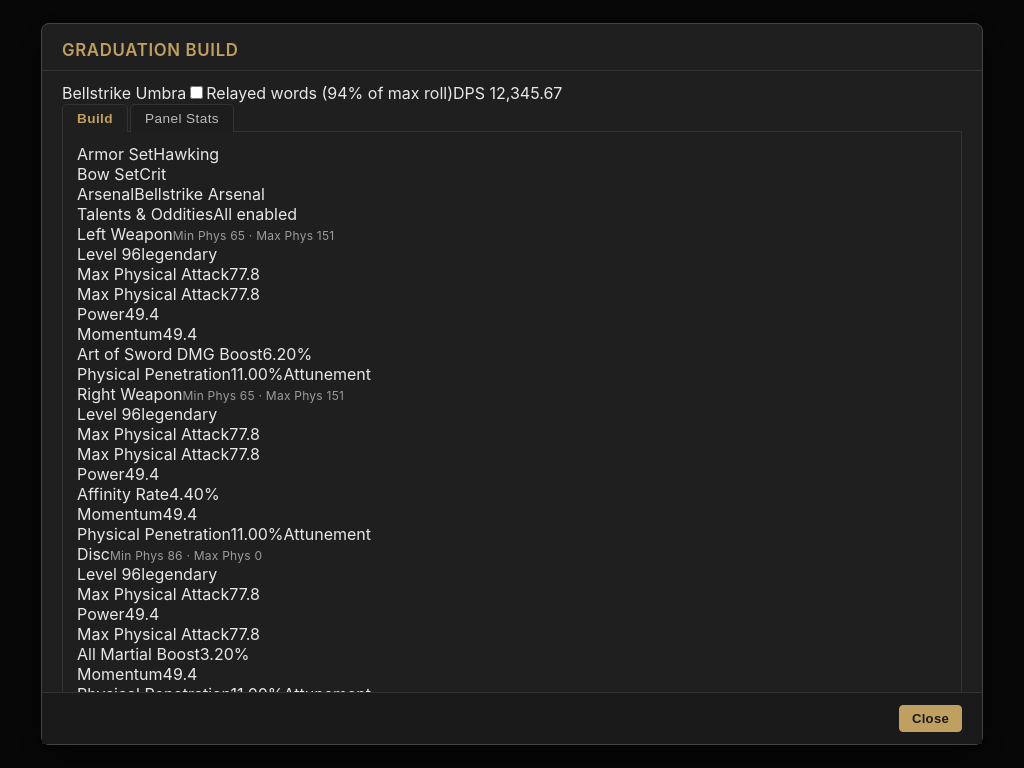
GraduationBuildDialog › relays every word, swaps to the relayed bow set and shows the relayed DPS
Expected: the text "Crit" is shown, [139,164,166,184]
Expected: the element "Left Weapon" shows "77.8", [229,264,260,284]
Click the checkbox labelled "Relayed words (94% of max roll)": (197, 92) [190,86,203,99]
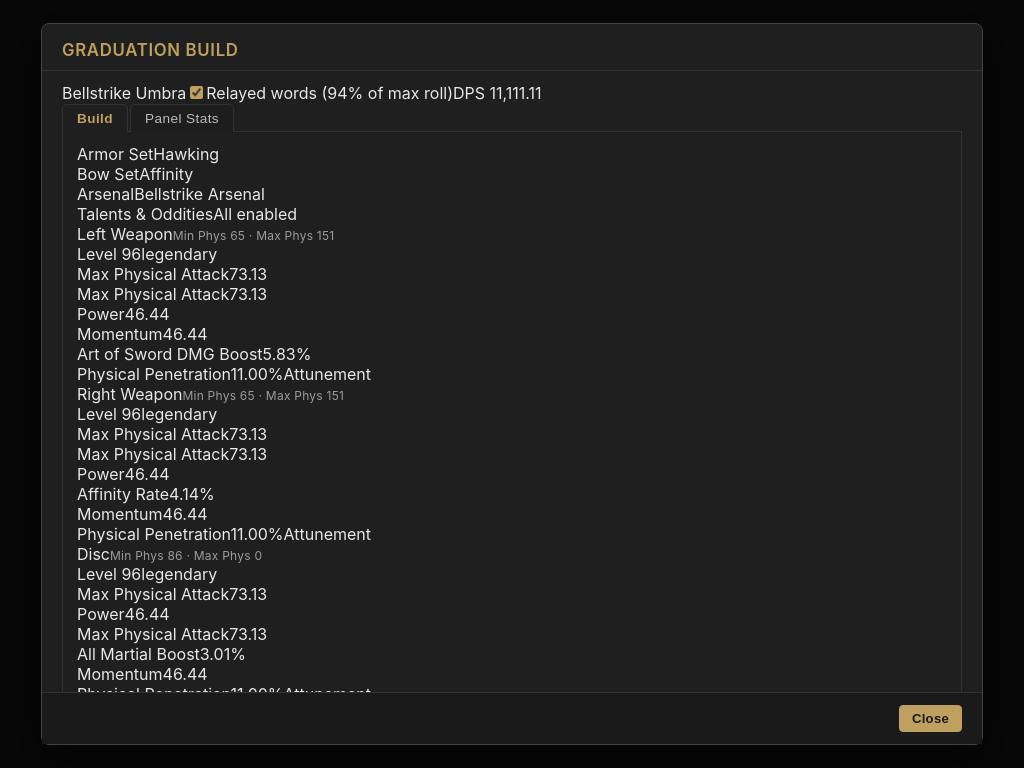
Now the text "DPS 11,111.11" is shown, box [453,83,542,103]
Now the text "Affinity" is shown, box [139,164,193,184]
Now the element "Left Weapon" shows "73.13", box [229,264,267,284]
